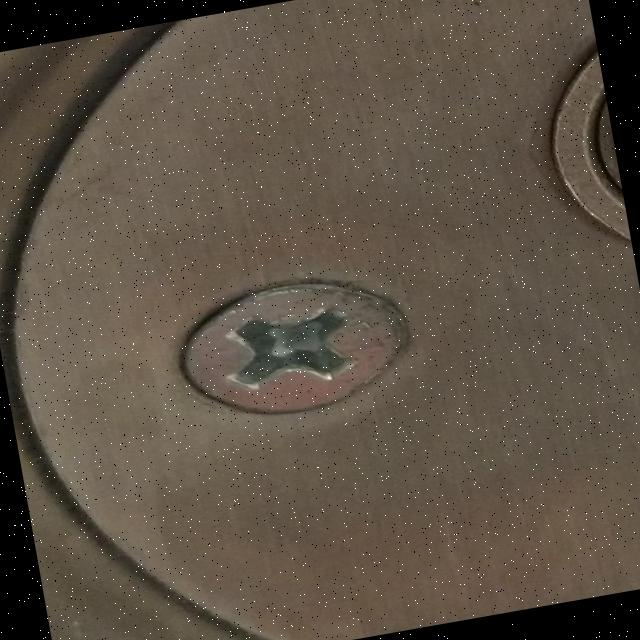Phillips: (166, 258, 408, 424)
